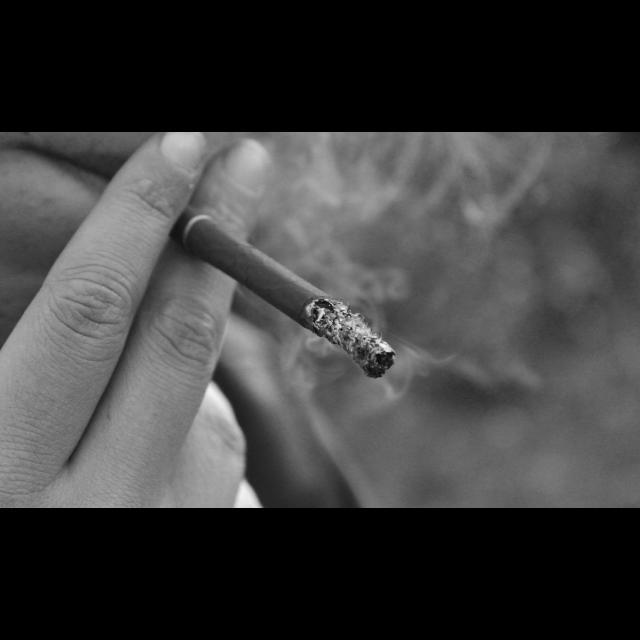rokok: (184, 188, 403, 382)
